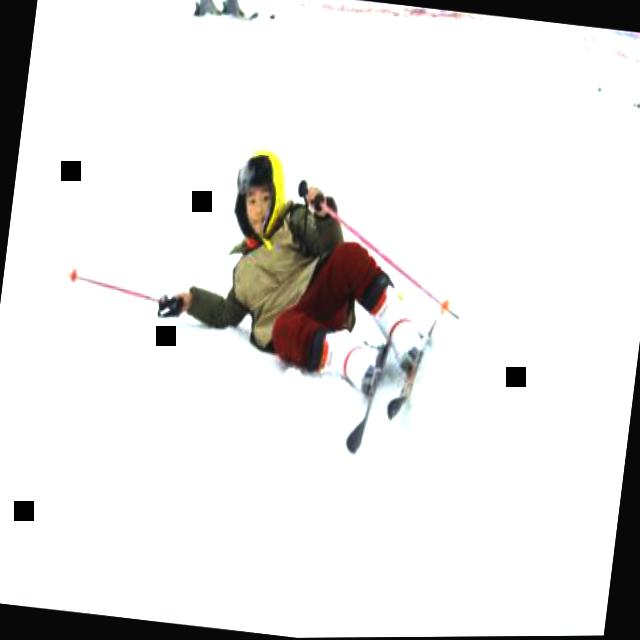Fall-Detected: (138, 106, 458, 435)
